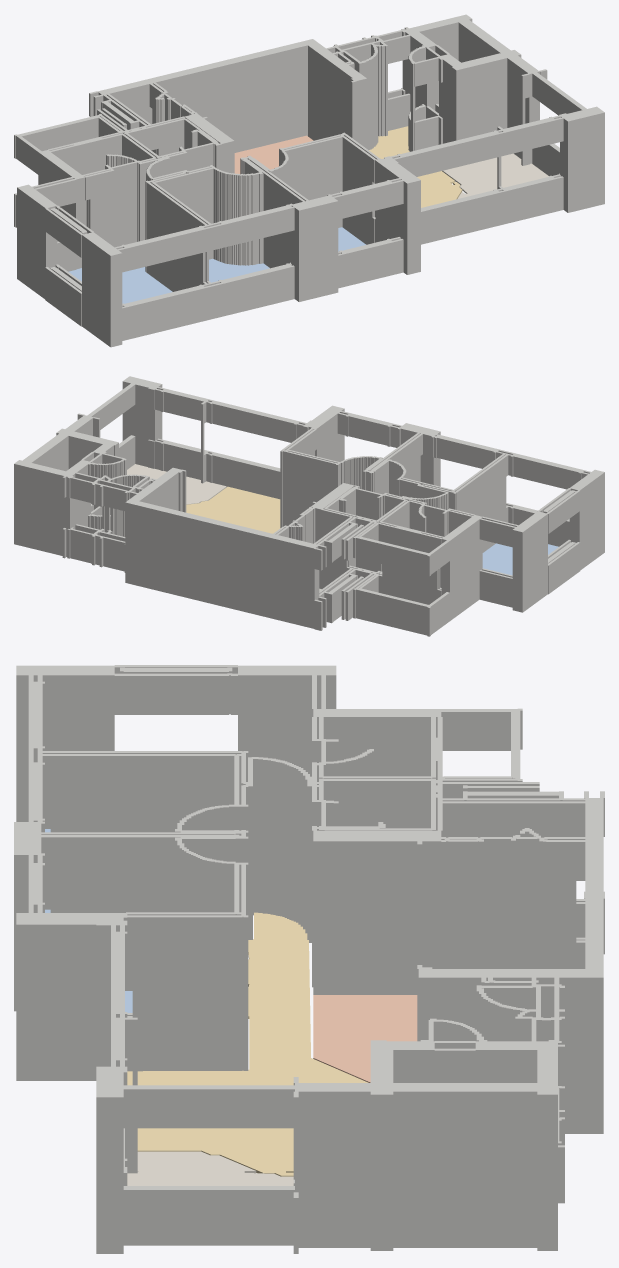
3 renders of one model, top to bottom at view 1: azimuth 30°, elevation 25°; view 2: azimuth 150°, elevation 25°; view 3: azimuth 270°, elevation 25°, orthographic. The views are drawn at different scales.
Visible parts, largest first — view 1: walls, room:other:5, room:living:7, room:bedroom:8, room:kitchen:1, room:bedroom:3; view 2: walls, room:living:7, room:other:5, room:bedroom:8; view 3: walls, room:living:7, room:kitchen:1, room:other:5.
Part boxes in pixels (x1=…): walls: x1=14, y1=14, x2=604, y2=347; room:other:5: x1=442, y1=153, x2=548, y2=198; room:living:7: x1=369, y1=126, x2=462, y2=207; room:bedroom:8: x1=68, y1=267, x2=172, y2=303; room:kitchen:1: x1=234, y1=135, x2=313, y2=173; room:bedroom:3: x1=209, y1=258, x2=269, y2=282; walls: x1=14, y1=376, x2=604, y2=636; room:living:7: x1=186, y1=486, x2=280, y2=533; room:other:5: x1=127, y1=464, x2=226, y2=504; room:bedroom:8: x1=482, y1=543, x2=558, y2=575; walls: x1=14, y1=665, x2=604, y2=1253; room:living:7: x1=127, y1=912, x2=368, y2=1176; room:kitchen:1: x1=313, y1=995, x2=417, y2=1082; room:other:5: x1=127, y1=1151, x2=293, y2=1185.
Bounding box in the file's own units: 16.59 × 2.8 × 9.58.
